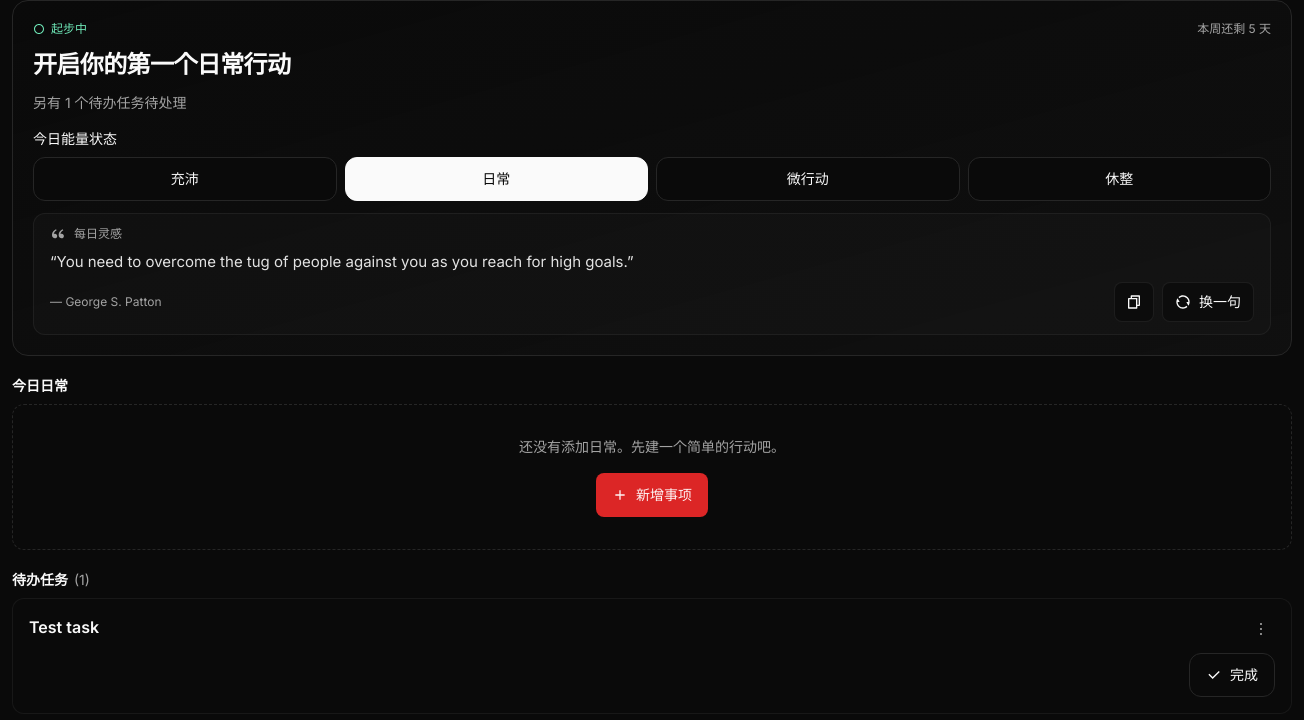
Test case: completes a task immediately without fetching the dashboard or categories again
The image size is (1304, 720).
Click the button with aria-label "完成“Test task”": (1232, 675) [1189,653,1275,697]
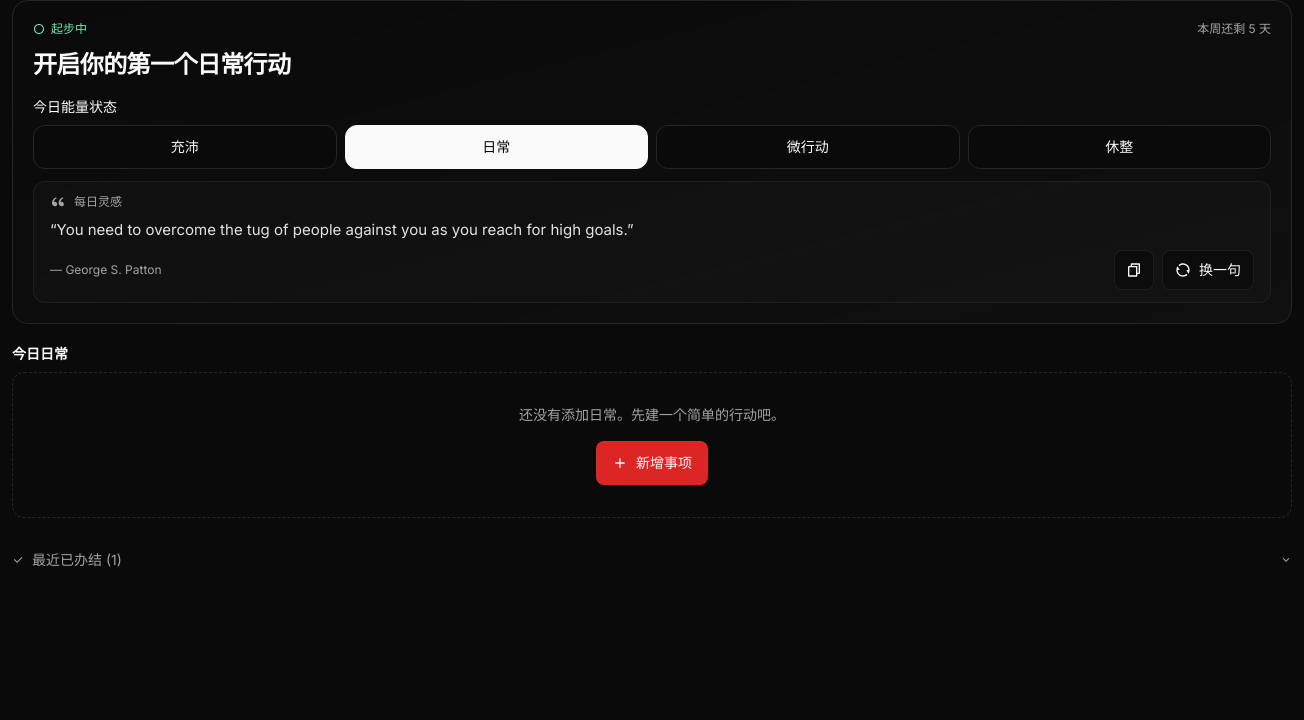
Result: the button "最近已办结 (1)" is shown at [12,538,1292,582]
